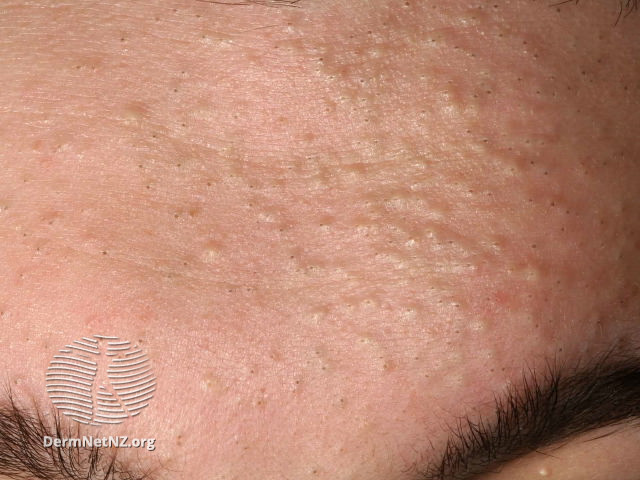jerawat: (353, 183, 459, 218), (307, 300, 331, 329), (441, 227, 465, 251), (201, 238, 225, 262), (313, 213, 334, 236), (523, 263, 545, 284), (374, 355, 393, 375), (361, 292, 379, 313), (462, 11, 482, 28), (288, 372, 303, 394), (414, 103, 431, 122), (353, 331, 370, 349), (437, 84, 455, 100), (481, 83, 497, 101), (426, 31, 442, 49), (450, 296, 465, 314), (467, 89, 484, 104), (240, 283, 257, 298), (342, 31, 360, 45), (201, 178, 219, 192), (140, 181, 158, 195), (214, 34, 230, 49), (317, 359, 332, 375), (449, 38, 463, 55), (358, 114, 373, 129), (70, 60, 86, 74), (323, 70, 339, 84), (476, 133, 492, 147), (505, 163, 519, 179), (483, 186, 497, 202), (521, 291, 537, 305), (197, 30, 211, 45), (355, 72, 368, 88), (426, 1, 442, 14), (462, 123, 476, 137), (491, 238, 505, 252), (244, 365, 258, 379), (282, 42, 295, 57), (321, 102, 334, 117), (251, 396, 266, 409), (229, 110, 243, 123), (536, 136, 549, 150), (309, 345, 322, 359), (552, 275, 565, 289), (168, 85, 183, 97), (400, 1, 416, 12), (468, 46, 479, 62), (503, 142, 516, 155), (596, 216, 609, 229), (173, 160, 186, 173), (314, 54, 328, 66), (521, 134, 533, 148), (466, 184, 477, 199), (284, 253, 299, 264), (192, 10, 204, 23), (335, 393, 347, 406), (98, 248, 111, 260), (516, 74, 527, 88), (562, 205, 573, 219), (497, 29, 507, 44), (117, 34, 129, 46), (178, 67, 190, 79), (403, 306, 415, 318), (529, 241, 542, 252), (178, 258, 191, 269), (32, 244, 45, 255), (44, 218, 55, 231), (151, 14, 162, 26), (284, 19, 296, 30), (177, 120, 189, 131), (338, 94, 350, 105), (548, 200, 560, 211), (528, 157, 538, 170), (520, 37, 530, 50), (17, 269, 26, 283), (491, 2, 502, 13), (542, 167, 552, 179), (171, 211, 181, 223), (411, 353, 421, 365), (168, 6, 181, 15), (364, 27, 374, 38), (552, 5, 563, 15), (525, 195, 536, 205), (247, 180, 256, 192), (136, 335, 145, 347), (579, 68, 589, 78), (358, 95, 369, 104), (246, 200, 255, 211), (557, 226, 569, 234), (1, 309, 8, 322), (593, 57, 603, 66), (535, 86, 543, 96), (622, 83, 630, 93)
